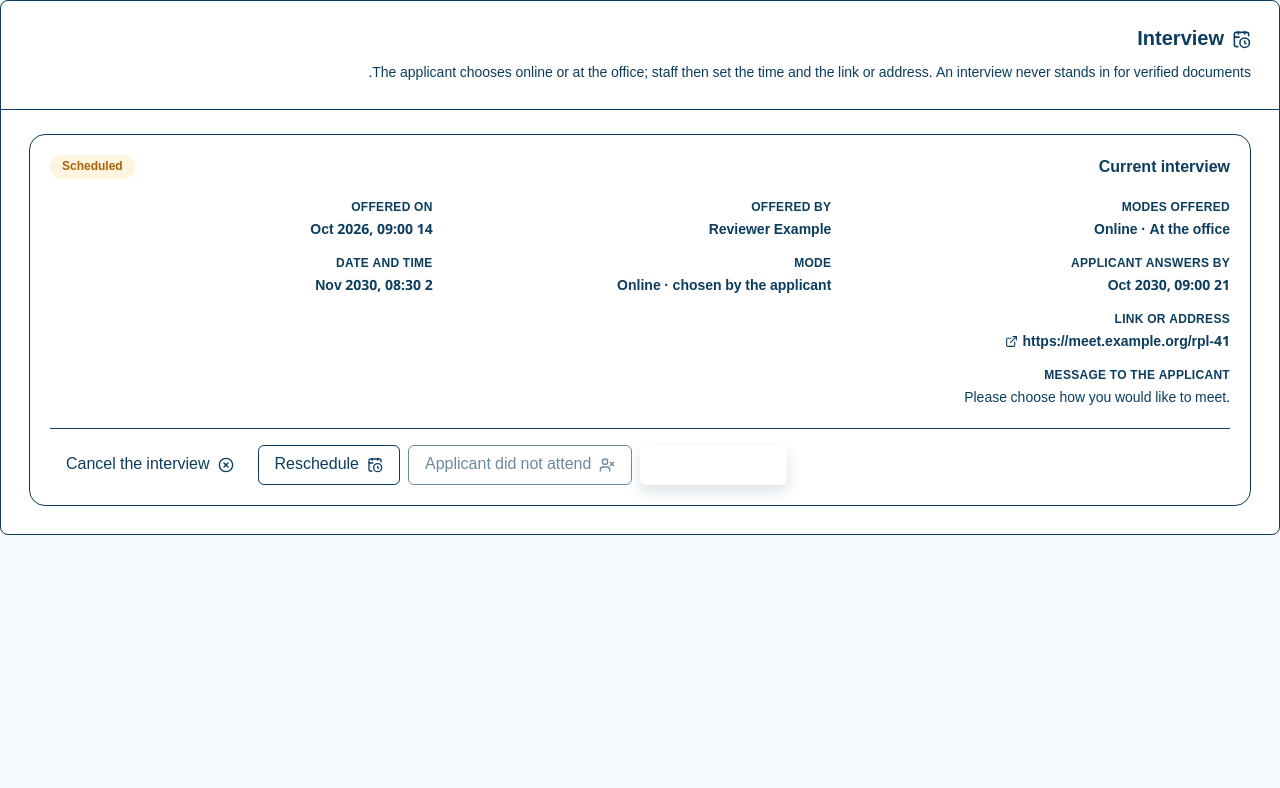
Test: a scheduled interview › shows the server refusal in the panel
Click the button "Mark as held" at coordinates (714, 465), box 640,445 -> 787,485
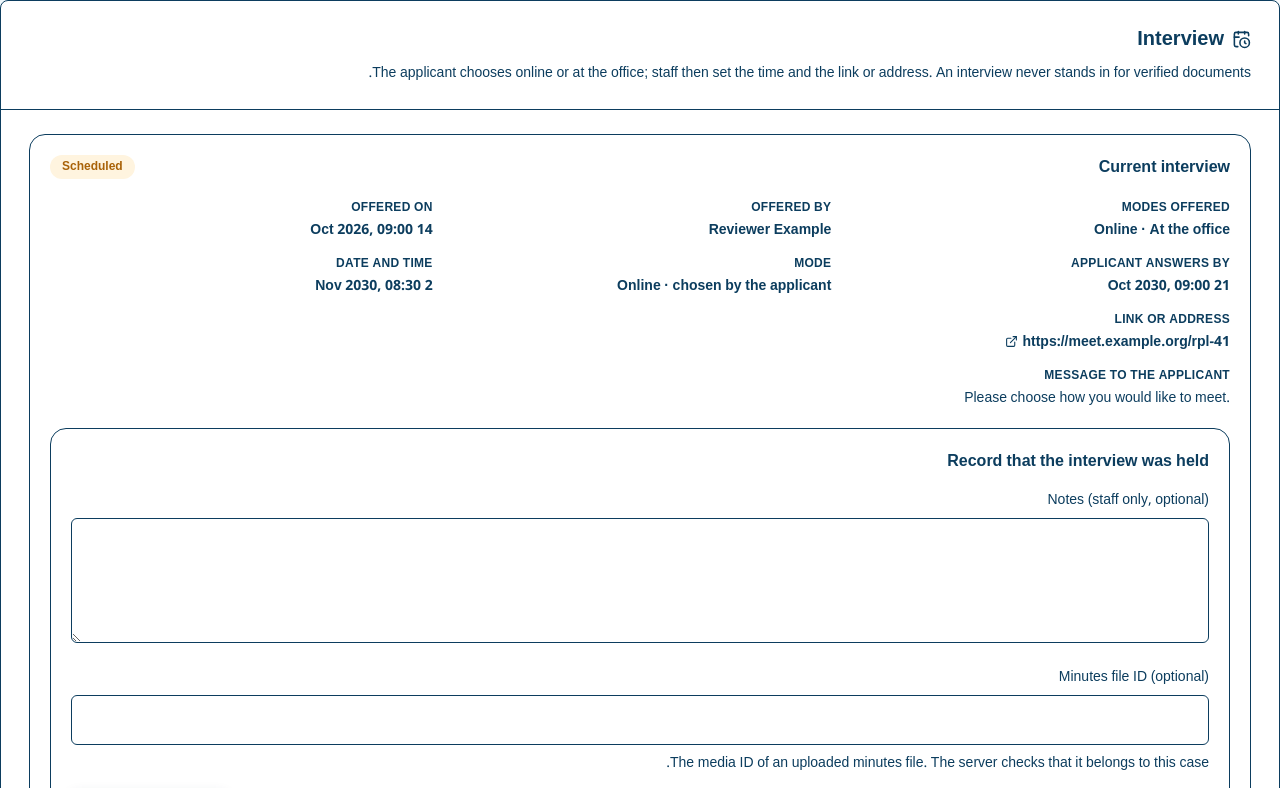
Type "99" into the field labelled "Minutes file ID (optional)" at coordinates (640, 720), box 71,695 -> 1209,745
(page scrolled)
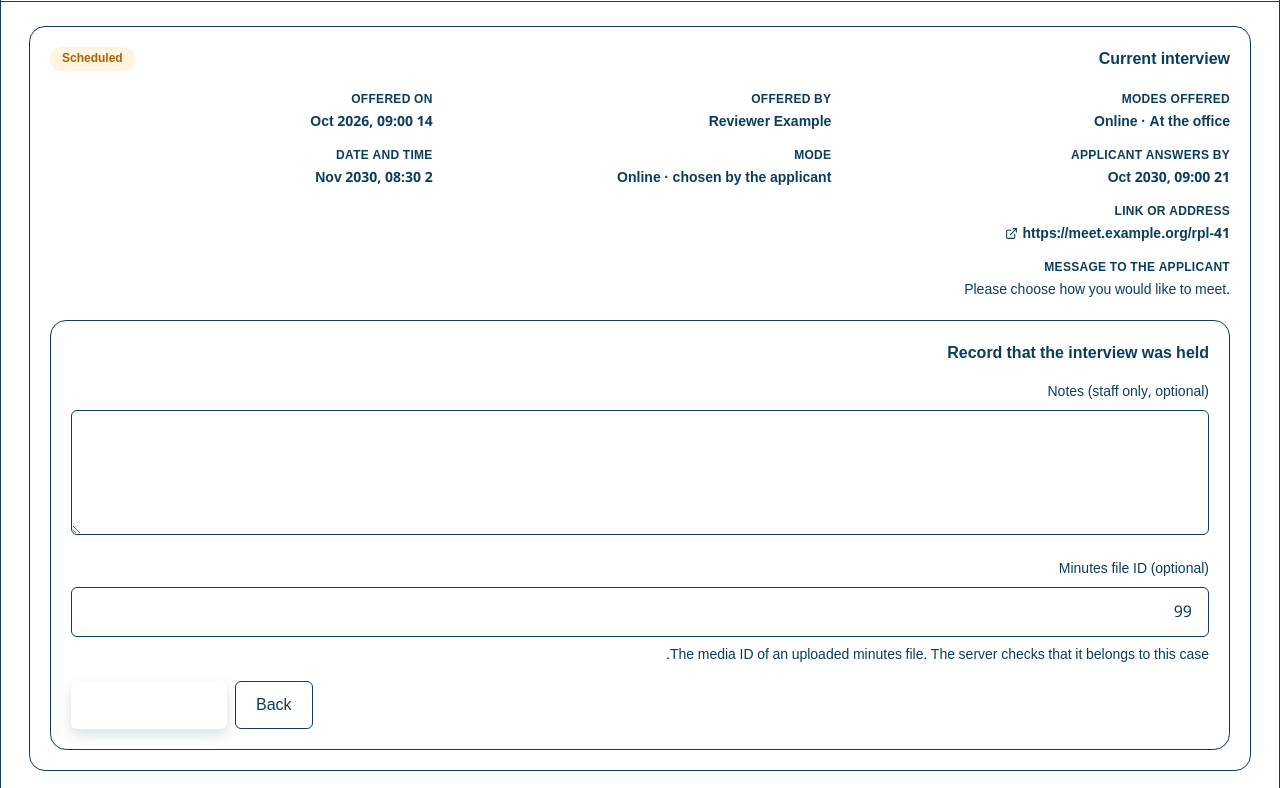
Click the button "Mark as held" at coordinates (149, 705), box 71,681 -> 227,729
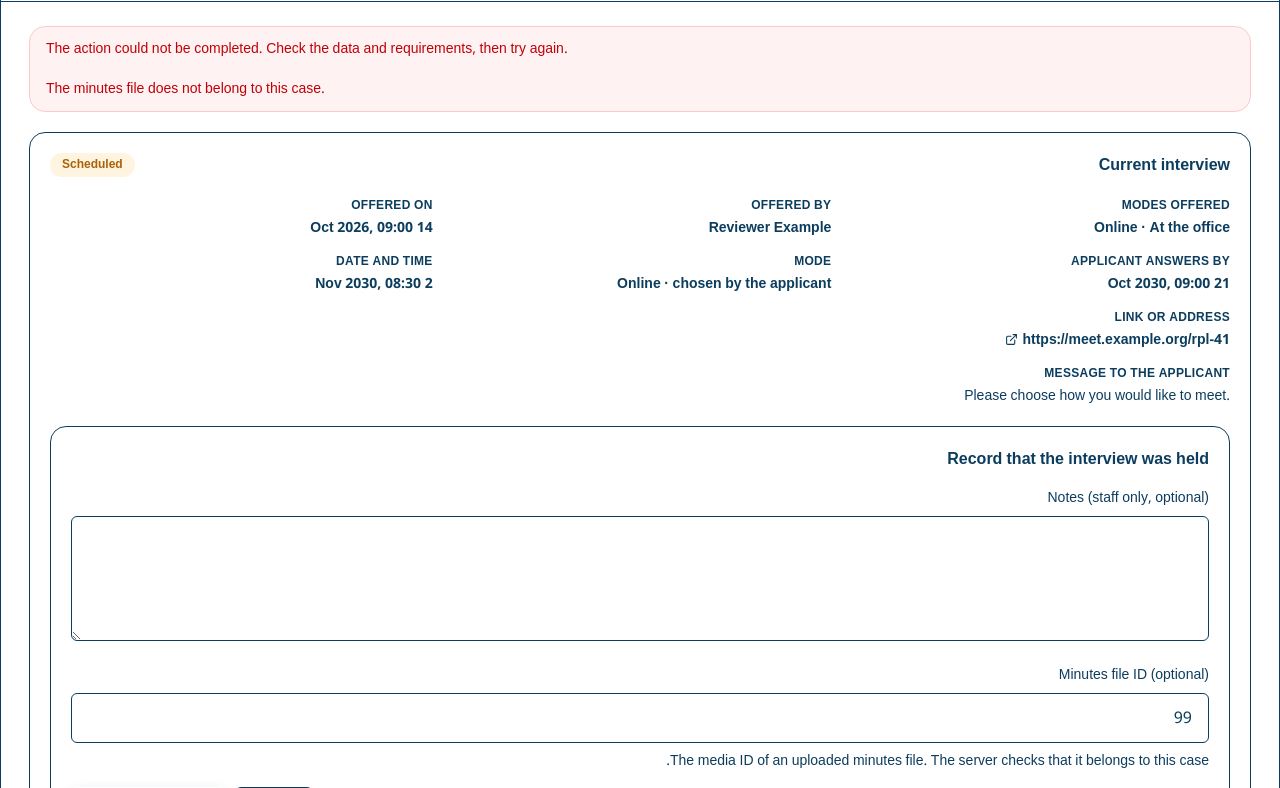
Check: the text "The minutes file does not belong to this case." is shown, box 46,34 -> 568,103
